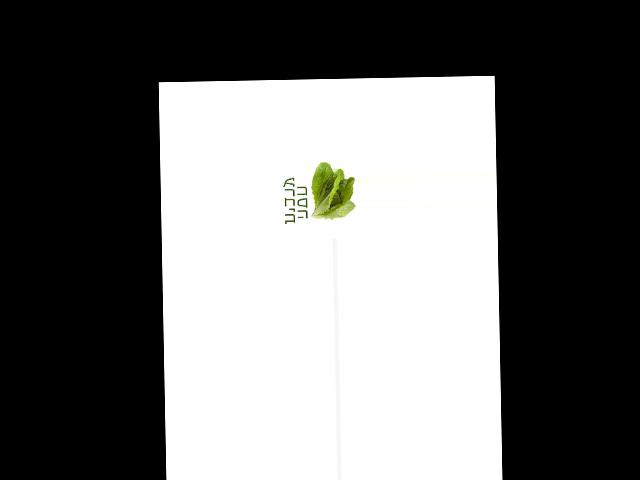lettuce: (305, 161, 355, 223)
